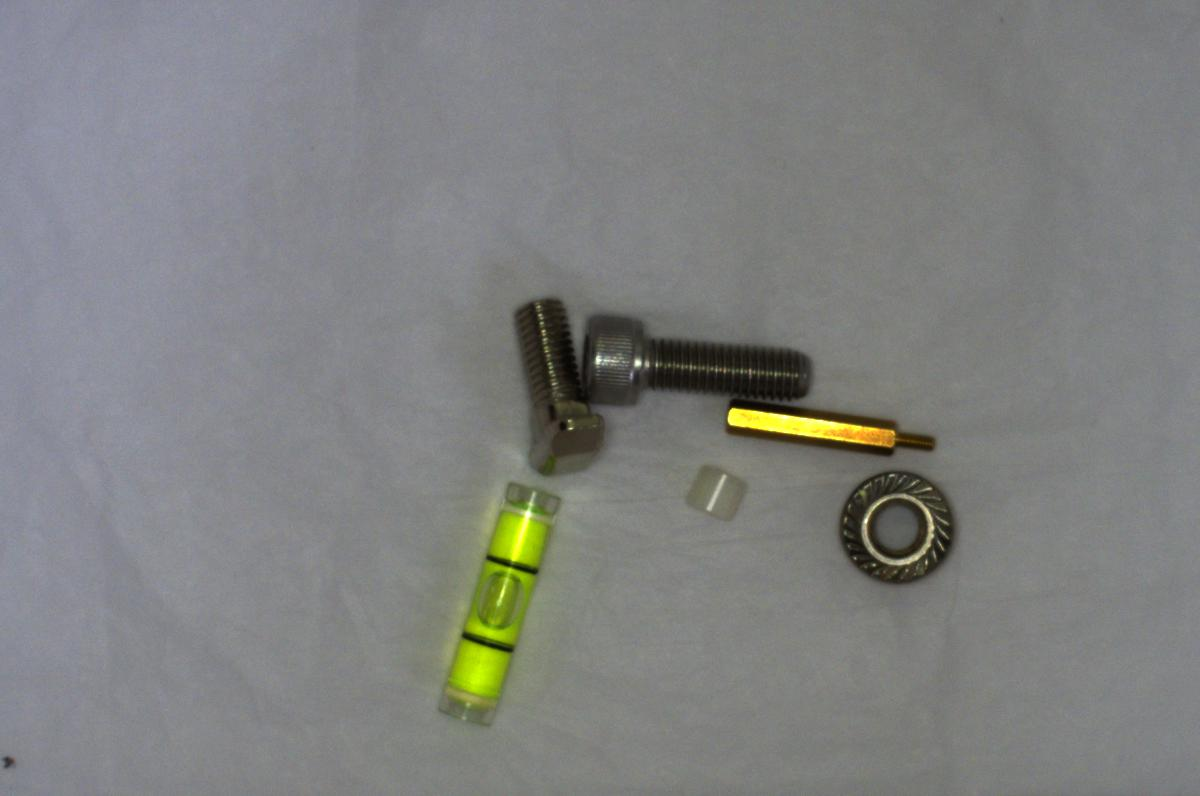Flange nut: (830, 463, 958, 590)
Hexagon pillar: (716, 395, 938, 462)
Hexagon screw: (573, 300, 823, 415)
Horizontal bubble: (442, 478, 547, 730)
Plastic cushion pillar: (678, 461, 754, 526)
T-shaped screw: (498, 290, 610, 482)
